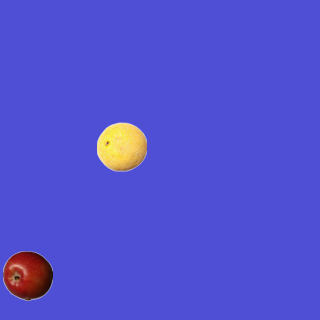Apple Braeburn: (2, 250, 52, 300)
Cantaloupe 1: (96, 121, 146, 171)
